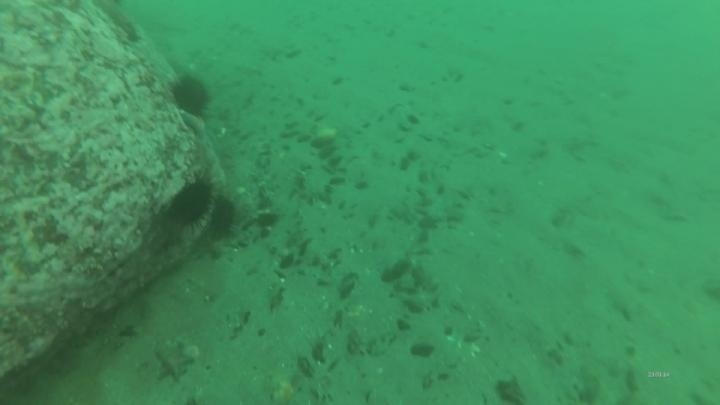echinus: (166, 174, 217, 229), (168, 73, 213, 118), (205, 193, 240, 240)
starfish: (151, 338, 198, 385)
